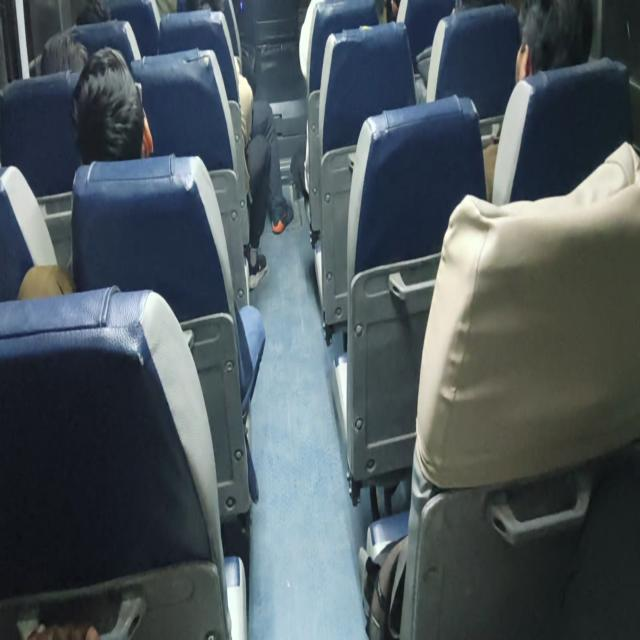person: (18, 45, 266, 502), (168, 1, 294, 289), (18, 46, 154, 299), (481, 0, 594, 202), (69, 45, 154, 164)
